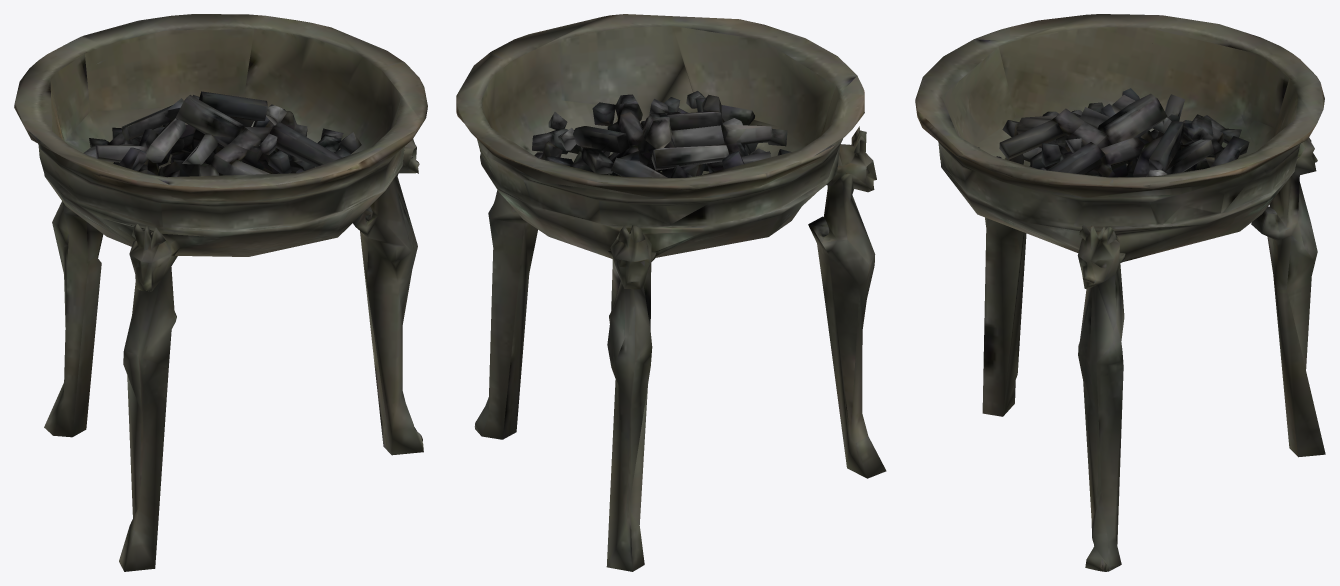
File: brazier_web.glb
3 renders of one model, left to right at view 1: azimuth 30°, elevation 25°; view 2: azimuth 150°, elevation 25°; view 3: azimuth 270°, elevation 25°, orthographic.
Parts seen in each view (by area): view 1: node_0; view 2: node_0; view 3: node_0.
Part boxes in pixels (<box>): node_0: <box>14,14,427,571</box>; node_0: <box>456,14,886,571</box>; node_0: <box>915,14,1325,571</box>.
Bounding box in the file's own units: 0.8114 × 0.8038 × 0.786.
Materials: 1 (1 with a texture image).
